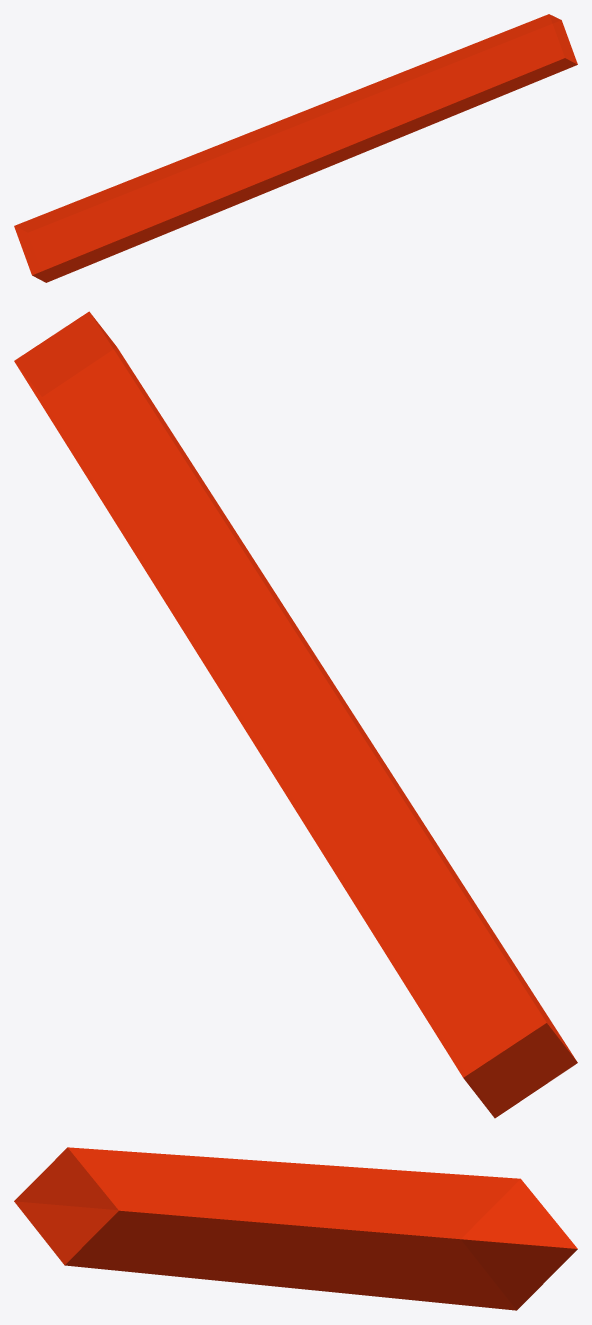
Rendered from Event_421364160_EBrechit_7.fbx.
3 renders of one model, top to bottom at view 1: azimuth 30°, elevation 25°; view 2: azimuth 150°, elevation 25°; view 3: azimuth 270°, elevation 25°, orthographic. The views are drawn at different scales.
Visible parts, largest first — view 1: Model; view 2: Model; view 3: Model.
Part boxes in pixels (<box>): Model: <box>14,14,577,282</box>; Model: <box>14,311,577,1118</box>; Model: <box>14,1147,577,1310</box>.
Size of the model in its own units: 0.5701 by 0.3535 by 0.3896.
